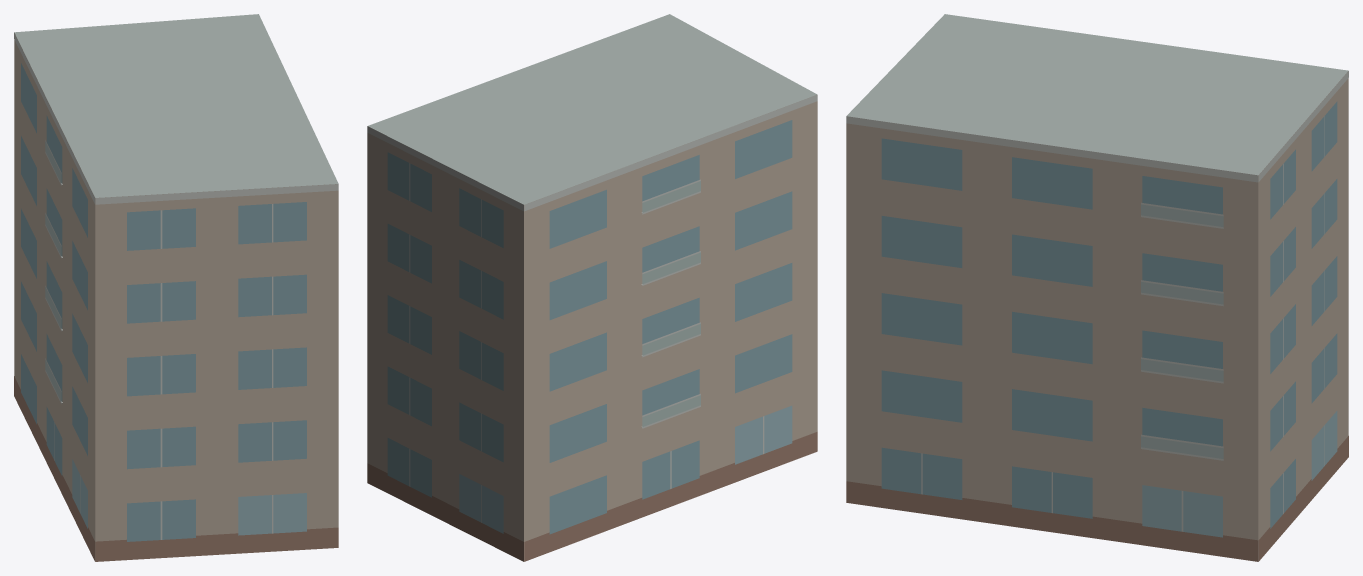
The model's file is survey-upis-32986491.glb.
3 views of the same model, side by side, from view 1: azimuth 30°, elevation 25°; view 2: azimuth 150°, elevation 25°; view 3: azimuth 270°, elevation 25° (orthographic). The views are drawn at different scales.
Visible parts, largest first — view 1: survey-upis-32986491.tmp; view 2: survey-upis-32986491.tmp; view 3: survey-upis-32986491.tmp.
Part boxes in pixels (left/top/right/bottom): survey-upis-32986491.tmp: left=14, top=14, right=338, bottom=561; survey-upis-32986491.tmp: left=367, top=14, right=817, bottom=561; survey-upis-32986491.tmp: left=846, top=14, right=1348, bottom=561.
Bounding box in the file's own units: 11.83 × 13.2 × 15.56.
